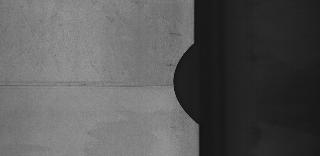welding line: (0, 79, 180, 95)
